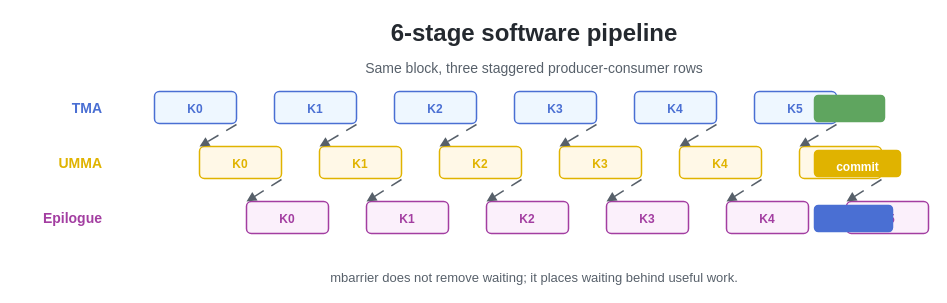
The diagram is 947 pixels wide and 303 high, and some of its shapes have lost their labels. The centre of each missing label's shape, as x and y in pixels:
"empty" goes at (853,218).
"full" goes at (849,108).
